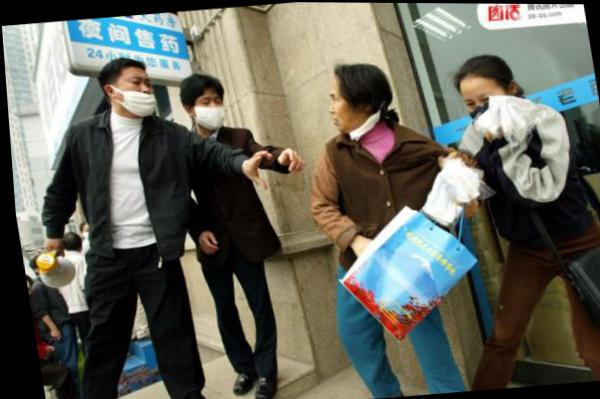NONE: (460, 85, 512, 132), (324, 87, 367, 133)
OK: (190, 93, 227, 128)
WRONG: (112, 73, 158, 117)
